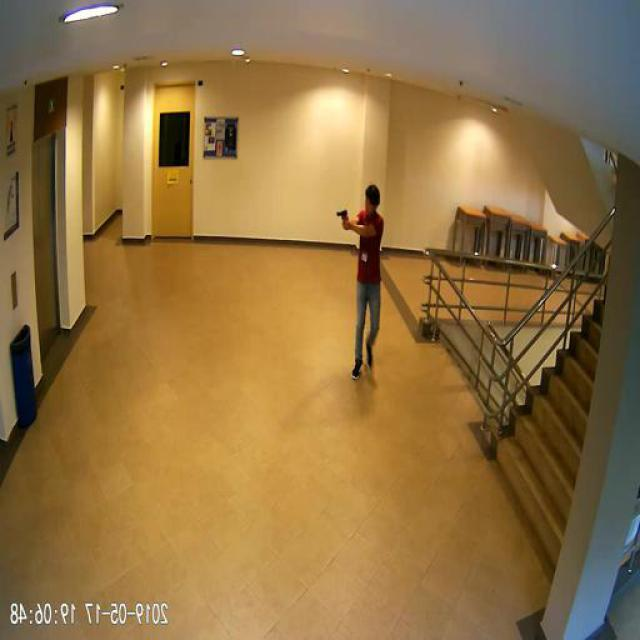Gun: (339, 206, 350, 225)
